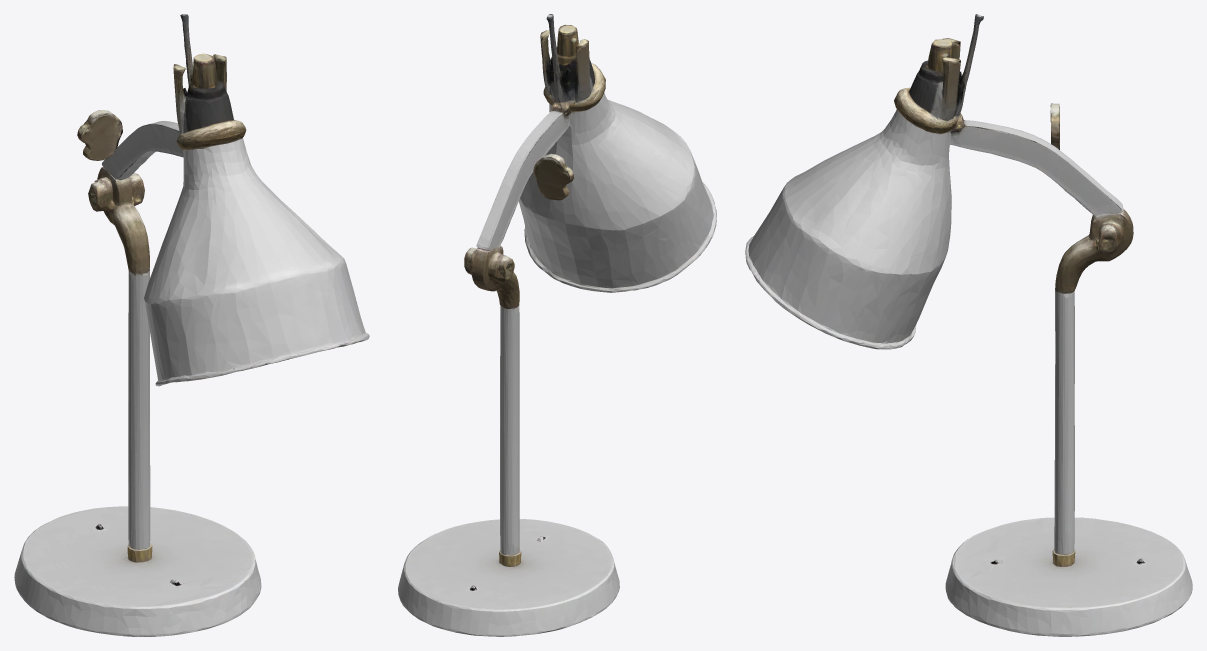
The model's file is 5708364e-5d8c-41b9-beb1-59845cc3d06b.glb.
3 renders of one model, left to right at view 1: azimuth 30°, elevation 25°; view 2: azimuth 150°, elevation 25°; view 3: azimuth 270°, elevation 25°, orthographic. The views are drawn at different scales.
Visible parts, largest first — view 1: world; view 2: world; view 3: world.
Boxes of the visible parts, box(x1,y1,x2,y2) form: world: box(14, 14, 369, 636); world: box(398, 14, 716, 636); world: box(745, 14, 1192, 636).
Bounding box in the file's own units: 0.3621 × 0.9963 × 0.7033.
Materials: 1 (1 with a texture image).
